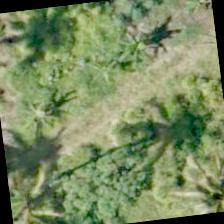Kelapa_Sawit: (160, 139, 223, 218)
